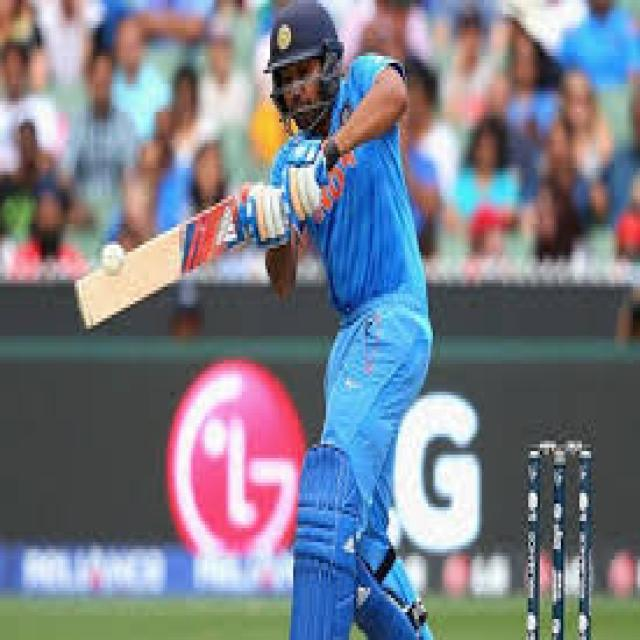toe: (72, 280, 92, 332)
